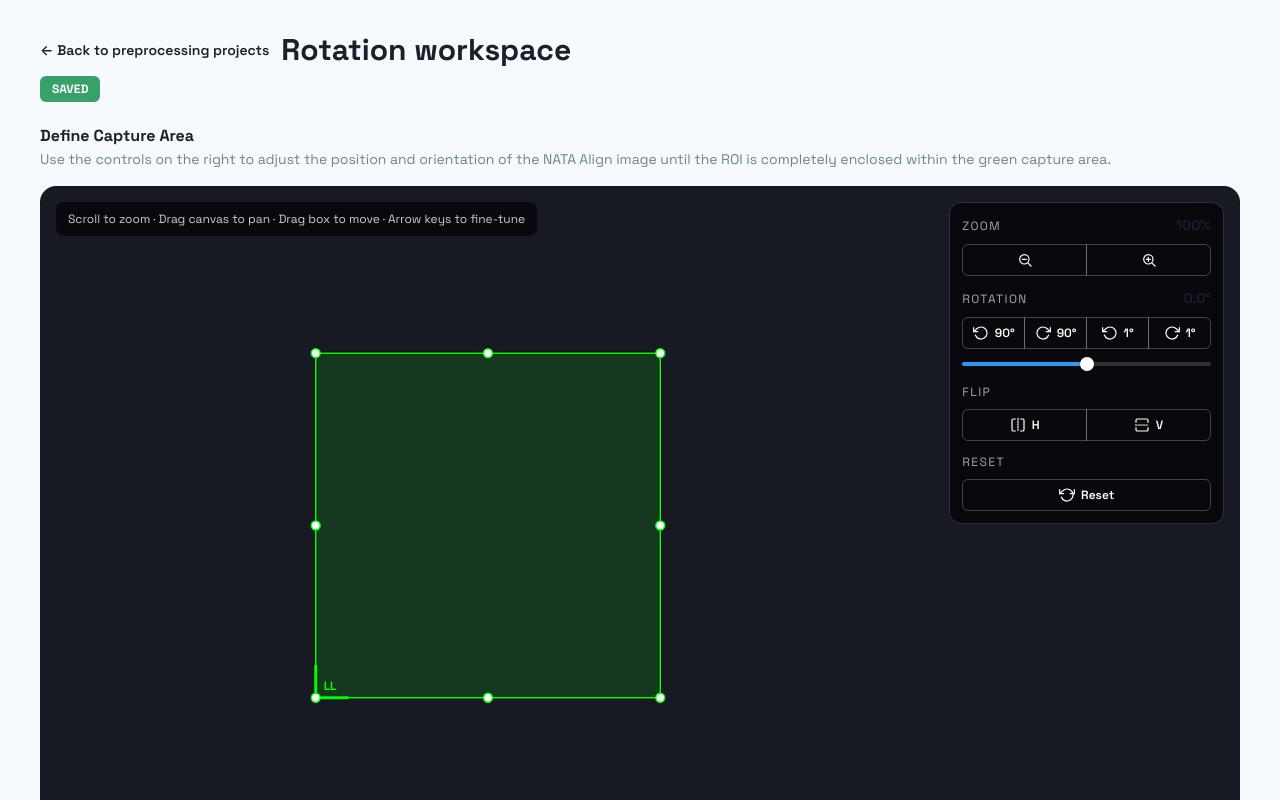
Test case: PreprocessWorkspace rotation contract › keeps Localization overlay canvas-axis-aligned while image rotation changes
Expected: the text with test id "localize-stage-rotation-value" reads "0.0°", [1184, 288, 1211, 309]
Click the button with test id "localize-stage-rotate-right-90". click: x=1056, y=333
box: [1024, 317, 1087, 349]
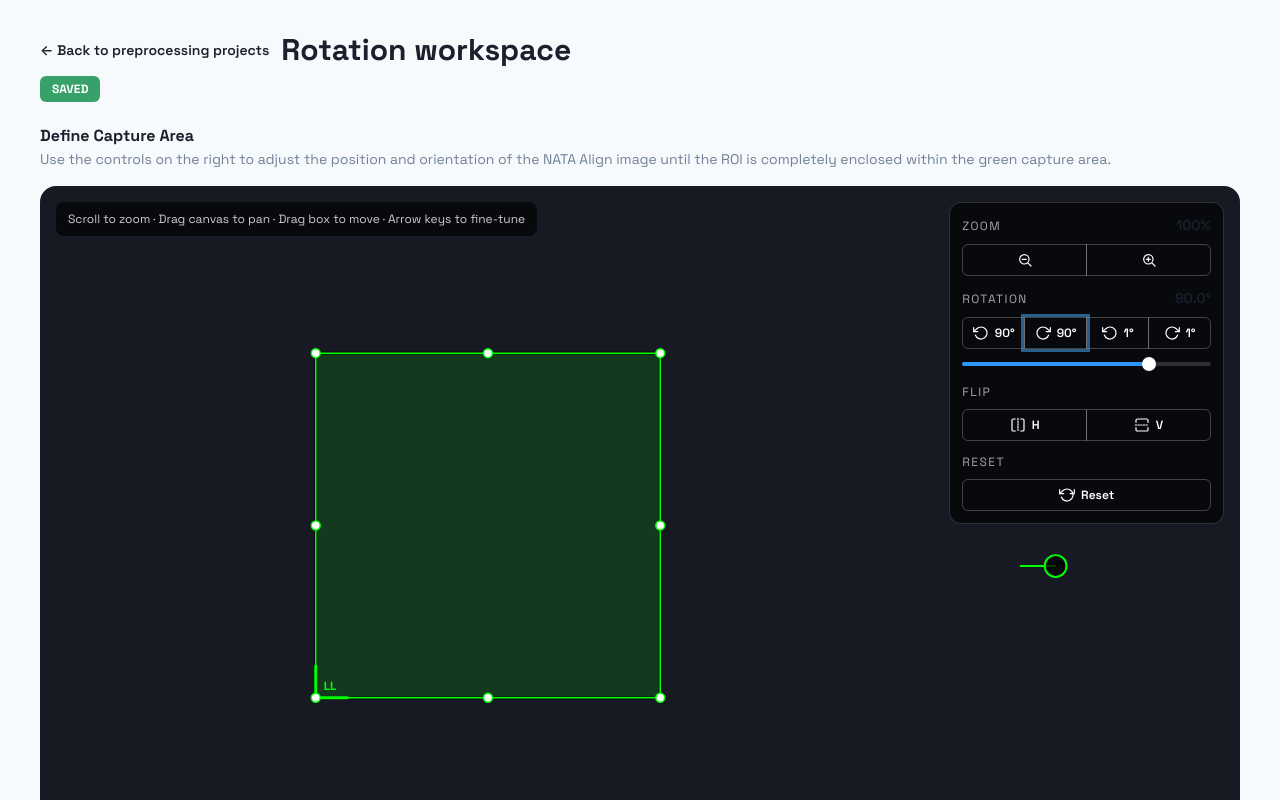
Now the text with test id "localize-stage-rotation-value" reads "90.0°", box [1175, 288, 1211, 309]
